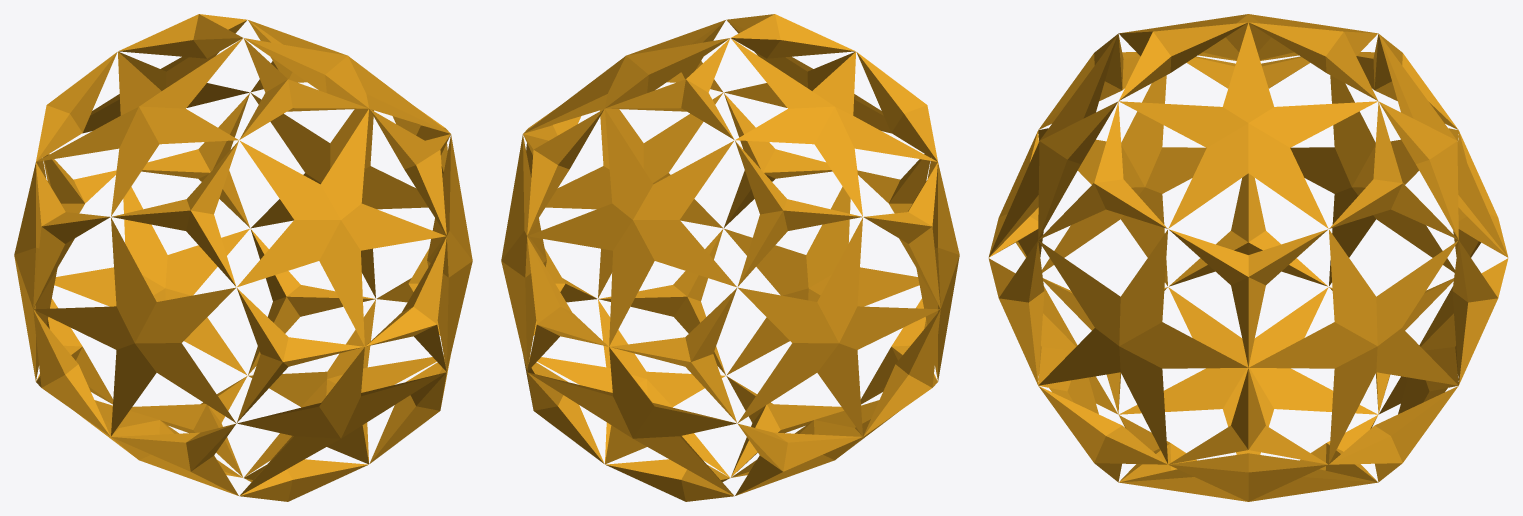
Rendered from tuma.glb.
3 renders of one model, left to right at view 1: azimuth 30°, elevation 25°; view 2: azimuth 150°, elevation 25°; view 3: azimuth 270°, elevation 25°, orthographic. The views are drawn at different scales.
Parts seen in each view (by area): view 1: Solid; view 2: Solid; view 3: Solid.
Part boxes in pixels (<box>): Solid: <box>14,14,472,501</box>; Solid: <box>501,14,959,501</box>; Solid: <box>988,14,1508,501</box>.
Bounding box in the file's own units: 1.7 × 1.7 × 1.7.
